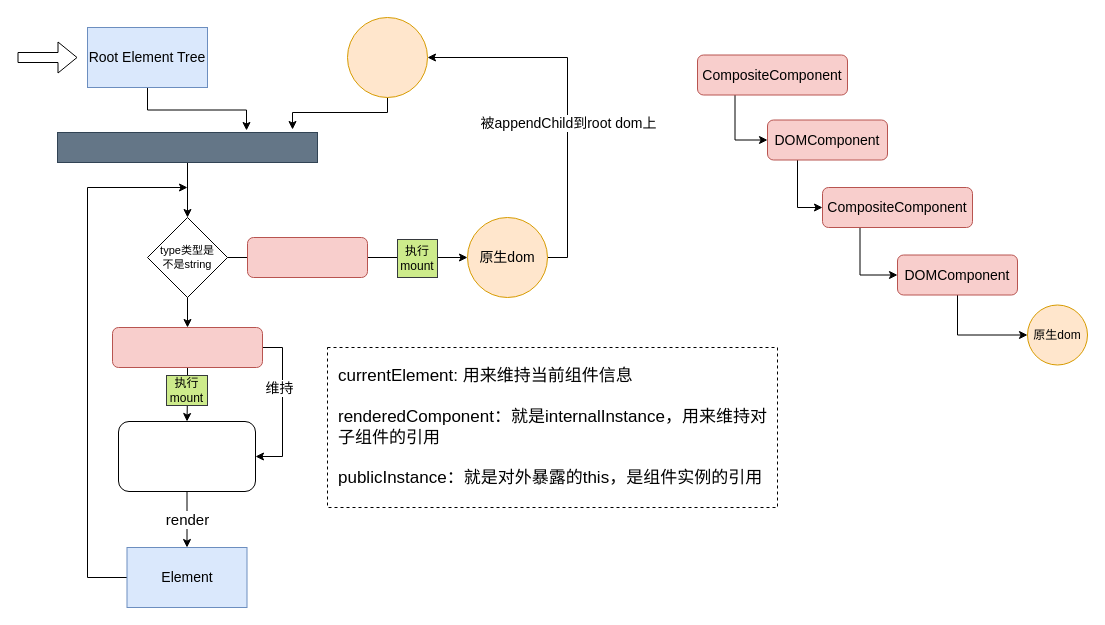
Some shapes in this 1105 by 625 pixel diagram are drawn without their labels. Here are the shapes that lost their labels. From the top down, the centre of each, then its label:
the point at 387,57: root dom节点
the point at 187,147: ReactDom.render(element, el)
the point at 307,257: new DOMComponent
the point at 187,347: new CompositeComponent
the point at 187,456: currentElement renderedComponent publicInstance
